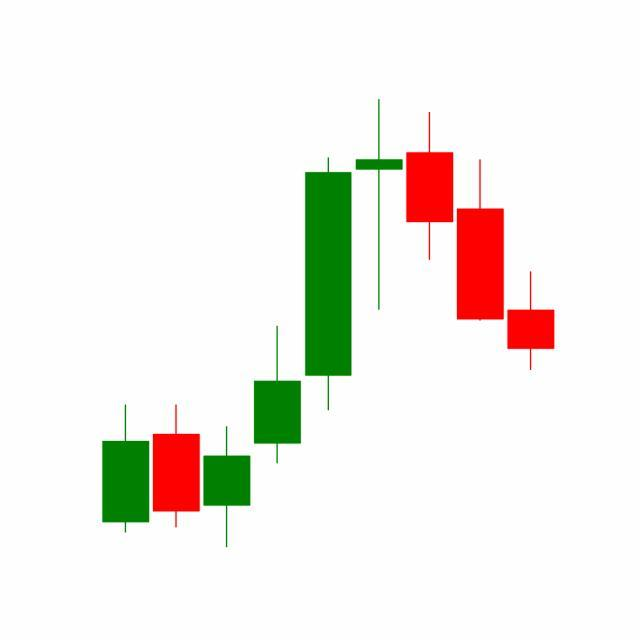Hikkake Pattern: (252, 99, 506, 468)
